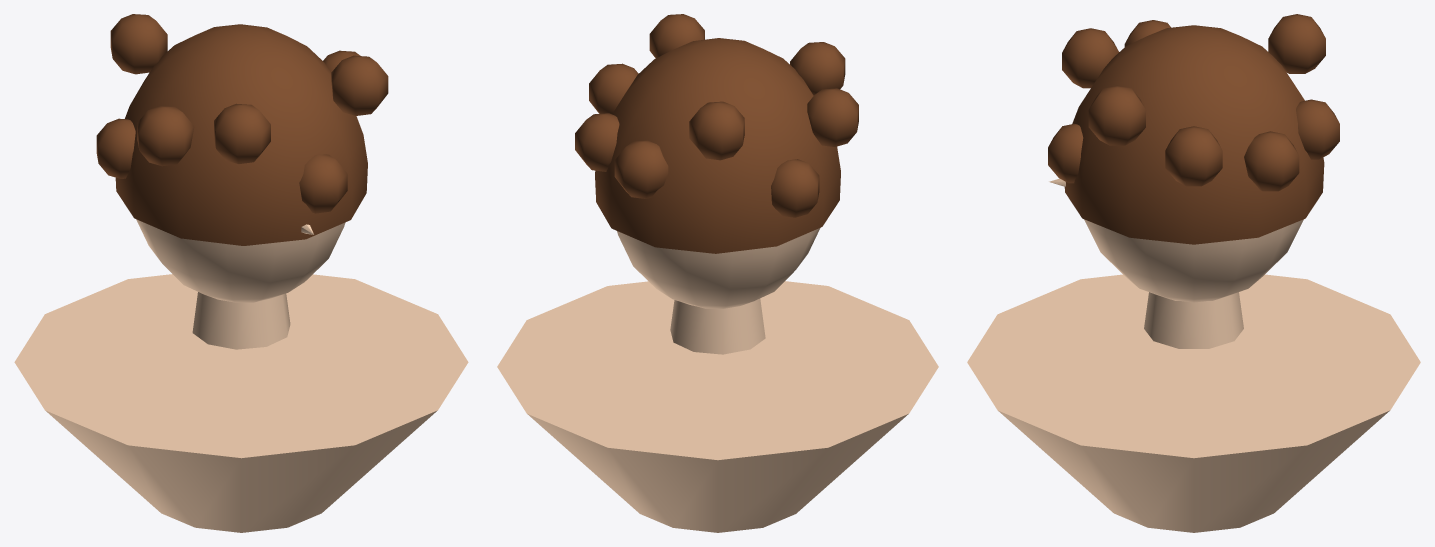
The model's file is raw_003.glb.
The picture shows the model from 3 angles, left to right: view 1: azimuth 30°, elevation 25°; view 2: azimuth 150°, elevation 25°; view 3: azimuth 270°, elevation 25°; orthographic projection. The views are drawn at different scales.
Bounding box in the file's own units: 1.9 × 2.12 × 1.9.
